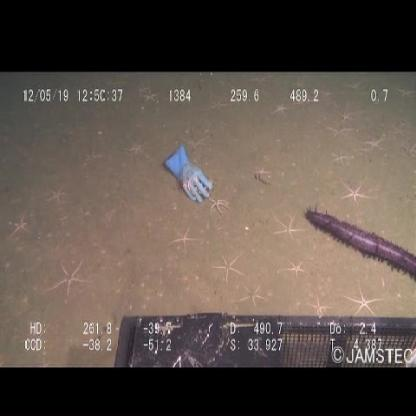Bio: (303, 199, 416, 282)
Rov: (113, 313, 416, 366)
Rác: (161, 143, 217, 207)
